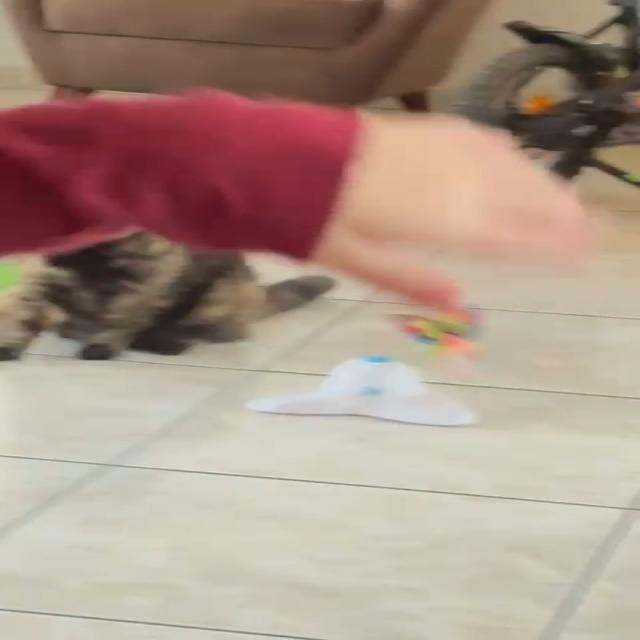authorized: (0, 230, 335, 362)
